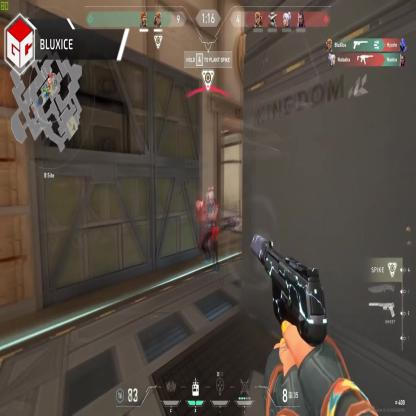enemy: (199, 192, 219, 271)
enemy_head: (208, 191, 214, 205)
